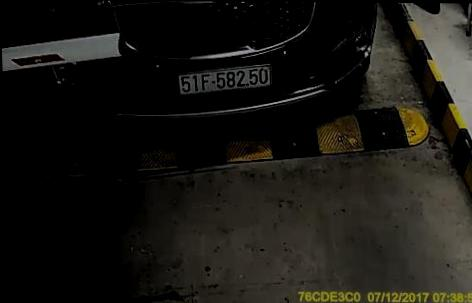License_Plate: (175, 63, 278, 95)
